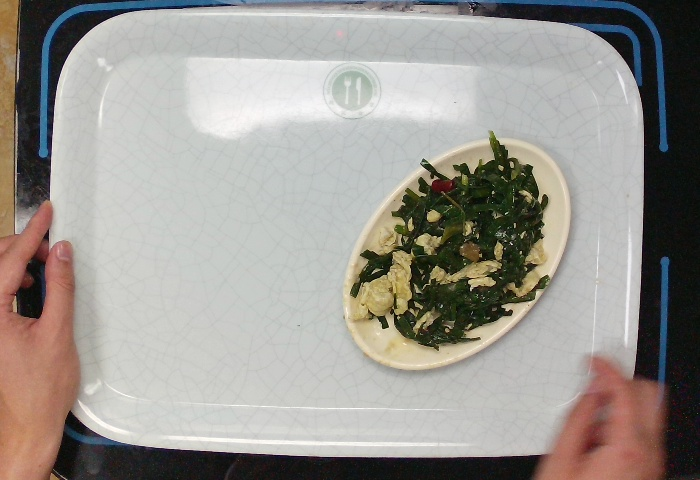JYsf-Tuo_Yuan_Wan: (338, 121, 574, 376)
